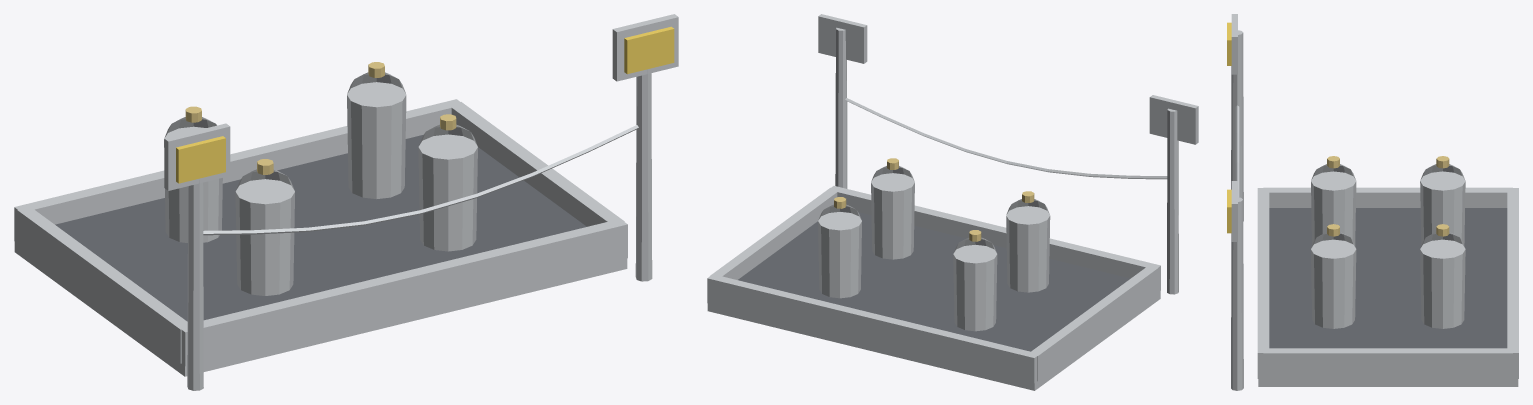
File: hot-air-balloon-festival-fuel-bay-bund-09d026b4__38525.glb
3 views of the same model, side by side, from view 1: azimuth 30°, elevation 25°; view 2: azimuth 150°, elevation 25°; view 3: azimuth 270°, elevation 25° (orthographic). The views are drawn at different scales.
Visible parts, largest first — view 1: fuel-bay-bund-steel, fuel-bay-bund-charcoal, fuel-bay-bund-canvasD, fuel-bay-bund-brass; view 2: fuel-bay-bund-steel, fuel-bay-bund-charcoal, fuel-bay-bund-brass; view 3: fuel-bay-bund-steel, fuel-bay-bund-charcoal, fuel-bay-bund-brass, fuel-bay-bund-canvasD.
Part boxes in pixels (left/top/right/bottom): fuel-bay-bund-steel: left=14, top=14, right=678, bottom=390; fuel-bay-bund-charcoal: left=55, top=135, right=586, bottom=321; fuel-bay-bund-canvasD: left=176, top=26, right=674, bottom=183; fuel-bay-bund-brass: left=185, top=62, right=456, bottom=174; fuel-bay-bund-steel: left=707, top=14, right=1198, bottom=390; fuel-bay-bund-charcoal: left=738, top=212, right=1130, bottom=351; fuel-bay-bund-brass: left=834, top=158, right=1034, bottom=241; fuel-bay-bund-steel: left=1231, top=14, right=1518, bottom=390; fuel-bay-bund-charcoal: left=1269, top=208, right=1507, bottom=348; fuel-bay-bund-brass: left=1327, top=156, right=1449, bottom=236; fuel-bay-bund-canvasD: left=1227, top=22, right=1231, bottom=233.
Bounding box in the file's own units: 3.46 × 1.66 × 2.25.
